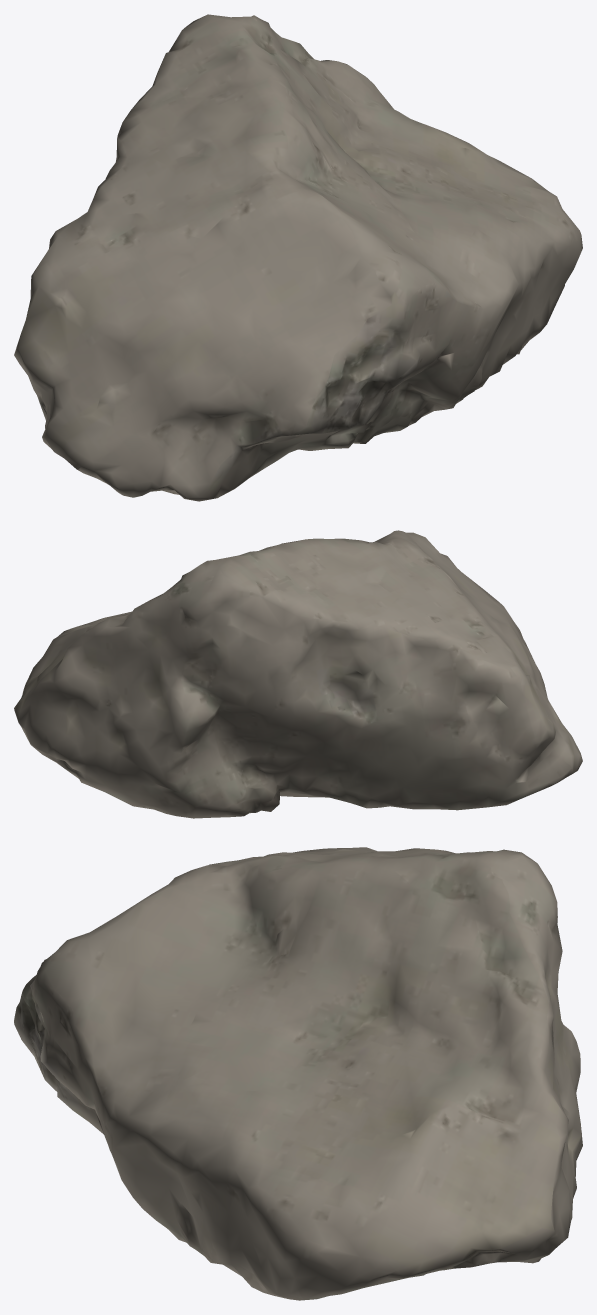
File: moon_rock_03.glb
The picture shows the model from 3 angles, top to bottom: view 1: azimuth 30°, elevation 25°; view 2: azimuth 150°, elevation 25°; view 3: azimuth 270°, elevation 25°; orthographic projection. The views are drawn at different scales.
Visible parts, largest first — view 1: moon_rock_03_LOD0; view 2: moon_rock_03_LOD0; view 3: moon_rock_03_LOD0.
Boxes of the visible parts, box(x1,y1,x2,y2) form: moon_rock_03_LOD0: box(14, 14, 582, 501); moon_rock_03_LOD0: box(14, 530, 582, 818); moon_rock_03_LOD0: box(14, 847, 582, 1300).
Size of the model in its own units: 0.112 by 0.0582 by 0.0861.
1 material, 1 textured.
